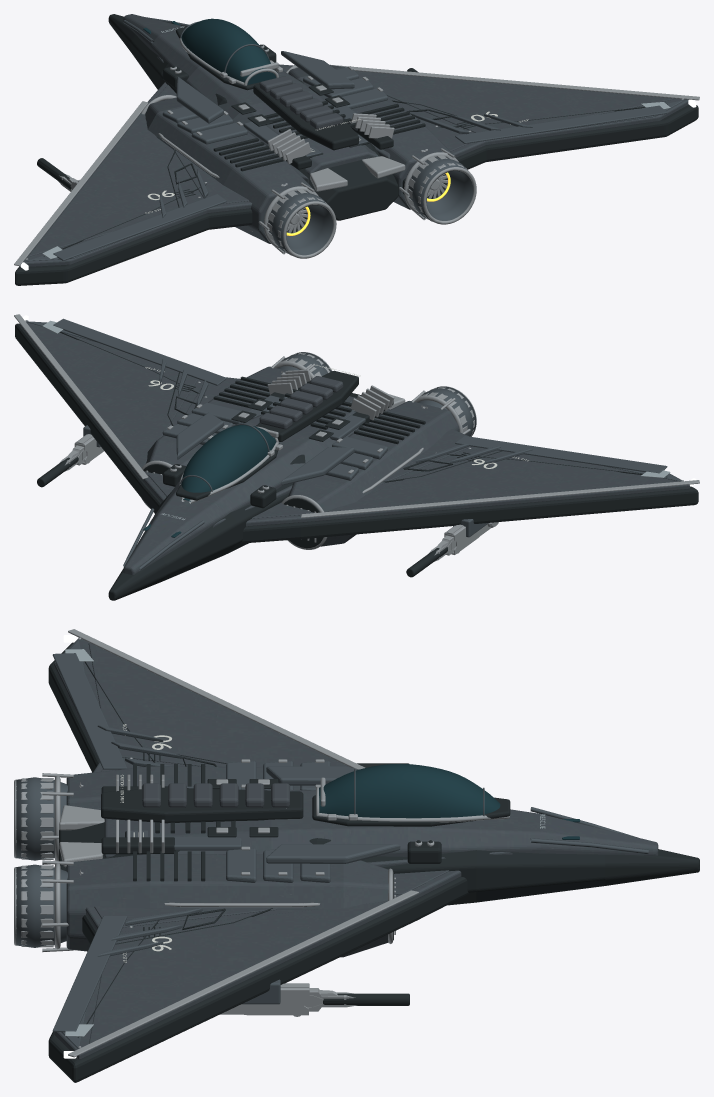
Rendered from specter.glb.
3 renders of one model, top to bottom at view 1: azimuth 30°, elevation 25°; view 2: azimuth 150°, elevation 25°; view 3: azimuth 270°, elevation 25°, orthographic. The views are drawn at different scales.
Parts seen in each view (by area): view 1: 主装甲_陶瓷金属涂层, 碳化结构与接缝, 次级装甲_深色钢, 拉丝钛合金, 镀膜座舱玻璃; view 2: 主装甲_陶瓷金属涂层, 碳化结构与接缝, 次级装甲_深色钢, 拉丝钛合金, 镀膜座舱玻璃; view 3: 主装甲_陶瓷金属涂层, 碳化结构与接缝, 次级装甲_深色钢, 拉丝钛合金, 镀膜座舱玻璃.
Boxes of the visible parts, x1,y1,x2,y2 form: 主装甲_陶瓷金属涂层: [20, 14, 688, 267]; 碳化结构与接缝: [15, 14, 698, 285]; 次级装甲_深色钢: [26, 17, 683, 261]; 拉丝钛合金: [14, 38, 699, 266]; 镀膜座舱玻璃: [143, 18, 276, 84]; 主装甲_陶瓷金属涂层: [20, 321, 689, 574]; 碳化结构与接缝: [15, 323, 698, 600]; 次级装甲_深色钢: [26, 318, 681, 570]; 拉丝钛合金: [14, 314, 699, 561]; 镀膜座舱玻璃: [143, 425, 276, 537]; 主装甲_陶瓷金属涂层: [54, 639, 658, 1059]; 碳化结构与接缝: [48, 642, 699, 1082]; 次级装甲_深色钢: [16, 640, 648, 1048]; 拉丝钛合金: [14, 629, 509, 1057]; 镀膜座舱玻璃: [319, 763, 579, 839].
Bounding box in the file's own units: 10.39 × 1.54 × 7.06.
9 materials, 1 textured.
